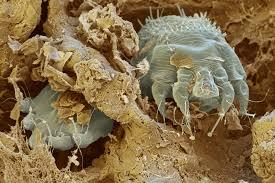Insects: (132, 11, 261, 125), (17, 82, 118, 153)
